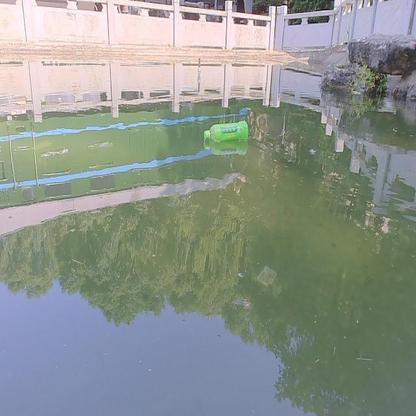plastic bottle: (203, 122, 248, 140)
